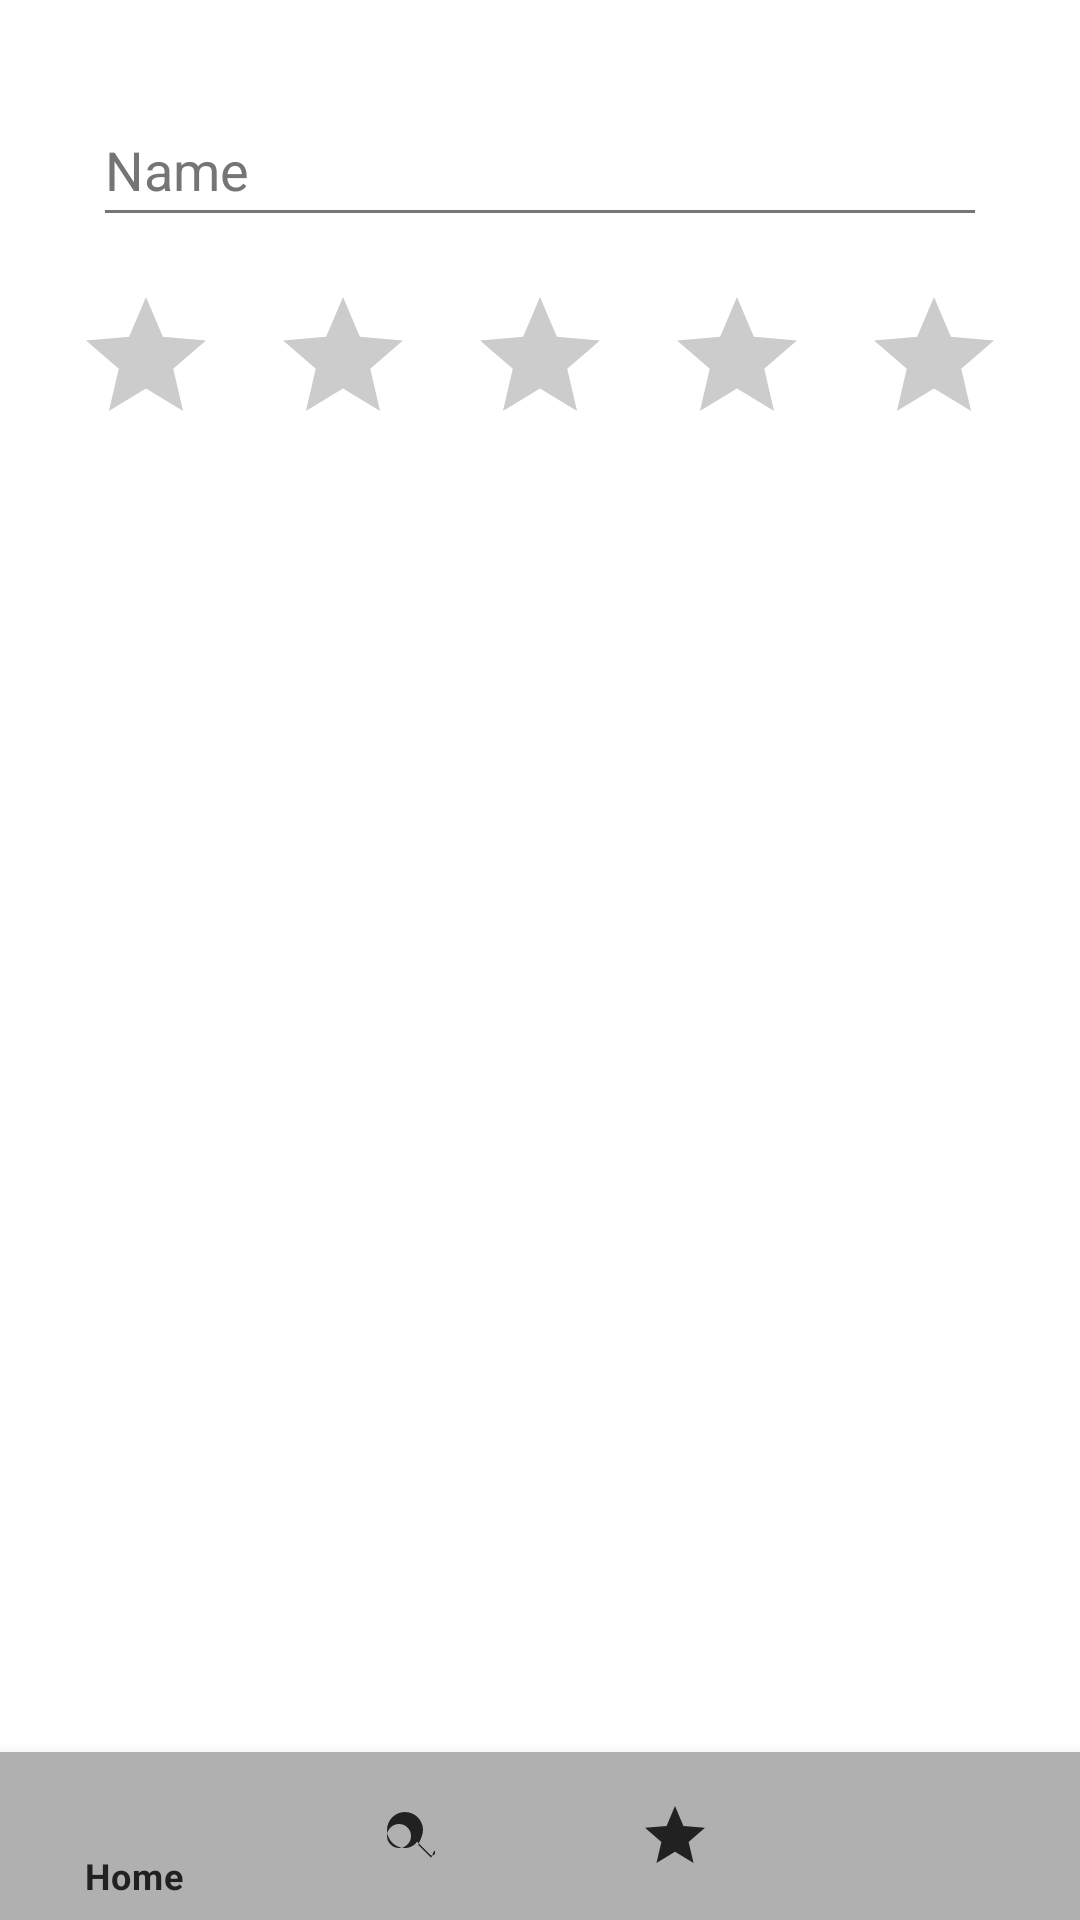

Icons on this 1080x1920 Android screen, each with the point to tap as point (x, y):
star empty: point (146, 354), point (343, 354), point (540, 354), point (737, 354), point (934, 354)
